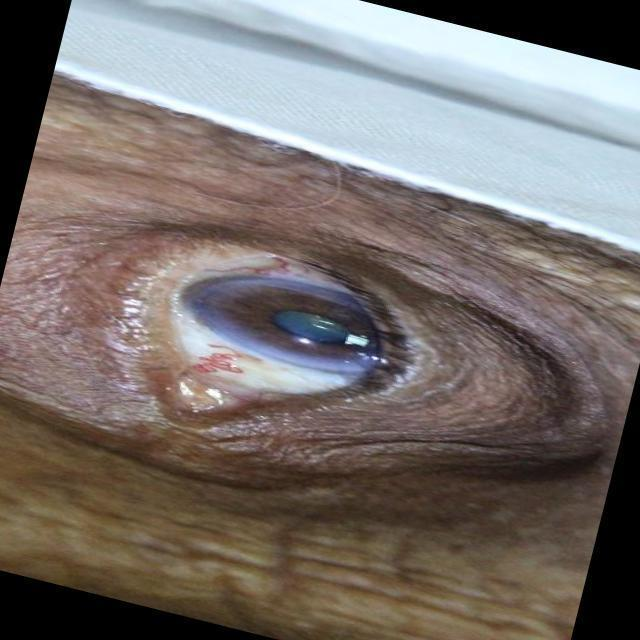Cataract: (160, 247, 412, 394)
